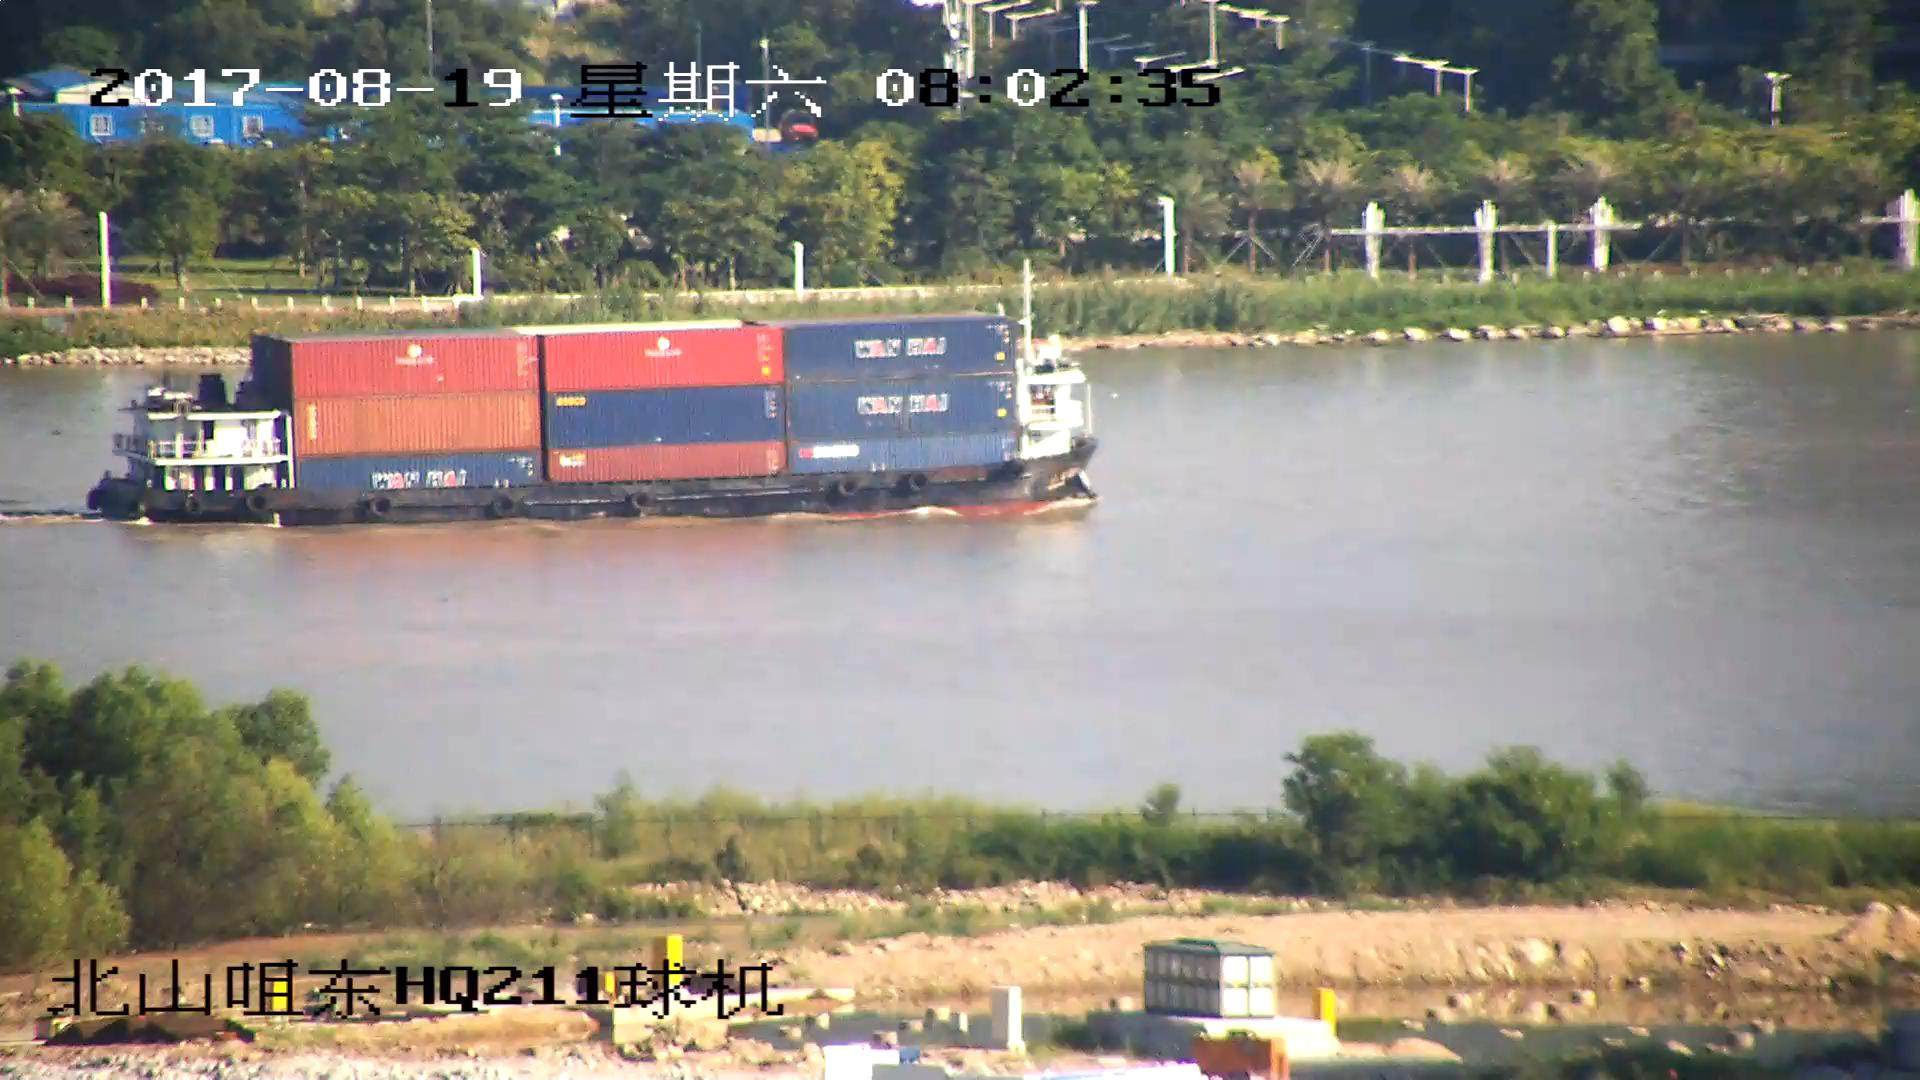container ship: (99, 265, 1101, 527)
